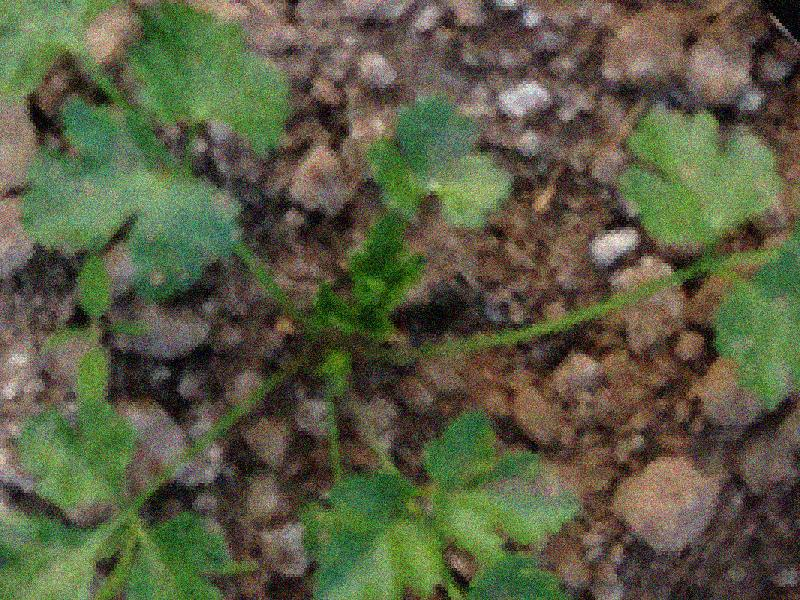radish: (0, 0, 790, 539)
